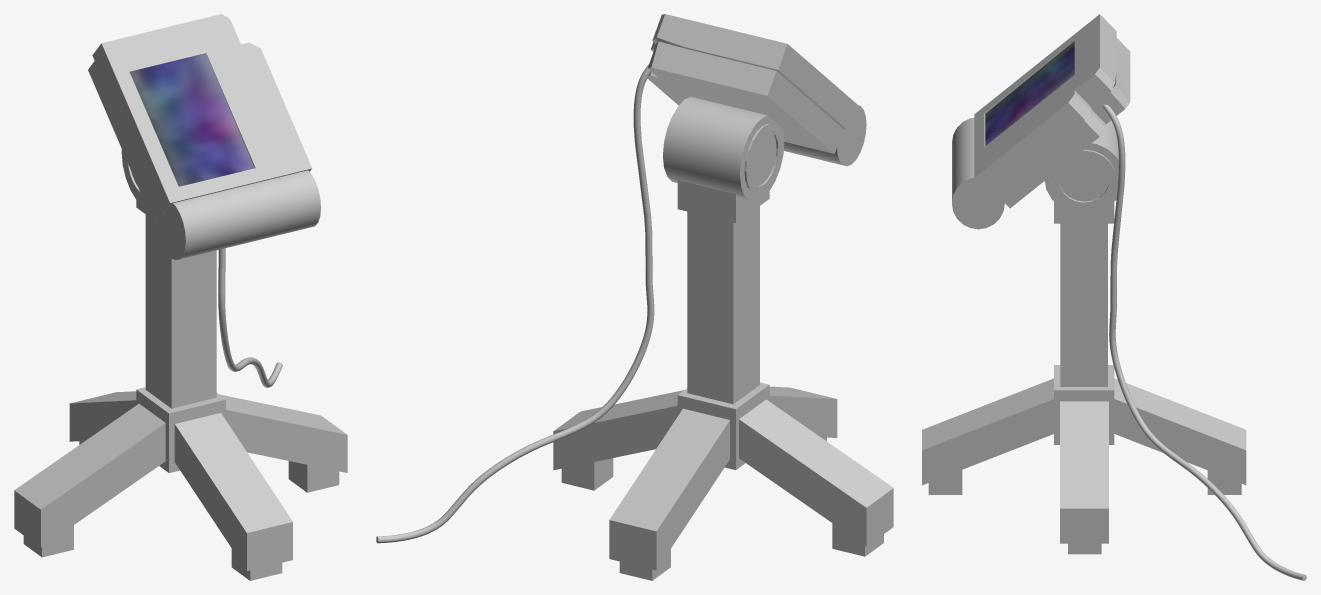
File: Device.fbx
3 views of the same model, side by side, from view 1: azimuth 30°, elevation 25°; view 2: azimuth 150°, elevation 25°; view 3: azimuth 270°, elevation 25° (orthographic). The views are drawn at different scales.
Parts seen in each view (by area): view 1: pCube2, polySurface1, pCube1, pPlane1, pCylinder2, sweep1, pCube6, pCube5, pCube4; view 2: pCube2, polySurface1, pCube1, pCylinder1, sweep1, pCube3, pCylinder2, pCube6, pCube5, pCube7; view 3: pCube2, polySurface1, pCube1, pCylinder1, sweep1, pCylinder2, pPlane1, pCube3, pCube4, pCube7.
Part boxes in pixels (bbox=[...]): pCube2: bbox=[14, 387, 347, 571]; polySurface1: bbox=[88, 14, 312, 222]; pCube1: bbox=[145, 214, 216, 408]; pPlane1: bbox=[129, 53, 254, 186]; pCylinder2: bbox=[157, 170, 320, 260]; sweep1: bbox=[218, 248, 282, 387]; pCube6: bbox=[288, 461, 339, 492]; pCube5: bbox=[23, 525, 73, 557]; pCube4: bbox=[231, 549, 282, 580]; pCube2: bbox=[553, 382, 893, 570]; polySurface1: bbox=[647, 14, 857, 153]; pCube1: bbox=[687, 206, 759, 404]; pCylinder1: bbox=[663, 96, 784, 201]; sweep1: bbox=[376, 64, 654, 543]; pCube3: bbox=[677, 180, 769, 223]; pCylinder2: bbox=[783, 105, 866, 166]; pCube6: bbox=[561, 458, 613, 490]; pCube5: bbox=[832, 523, 883, 556]; pCube7: bbox=[619, 549, 670, 580]; pCube2: bbox=[922, 365, 1246, 543]; polySurface1: bbox=[974, 14, 1130, 208]; pCube1: bbox=[1060, 223, 1107, 386]; pCylinder1: bbox=[1045, 120, 1118, 214]; sweep1: bbox=[1102, 104, 1306, 580]; pCylinder2: bbox=[952, 117, 1004, 229]; pPlane1: bbox=[985, 41, 1074, 145]; pCube3: bbox=[1054, 202, 1114, 223]; pCube4: bbox=[928, 470, 962, 494]; pCube7: bbox=[1207, 470, 1241, 494].
Size of the model in its own units: 6 by 7.39 by 5.83.
